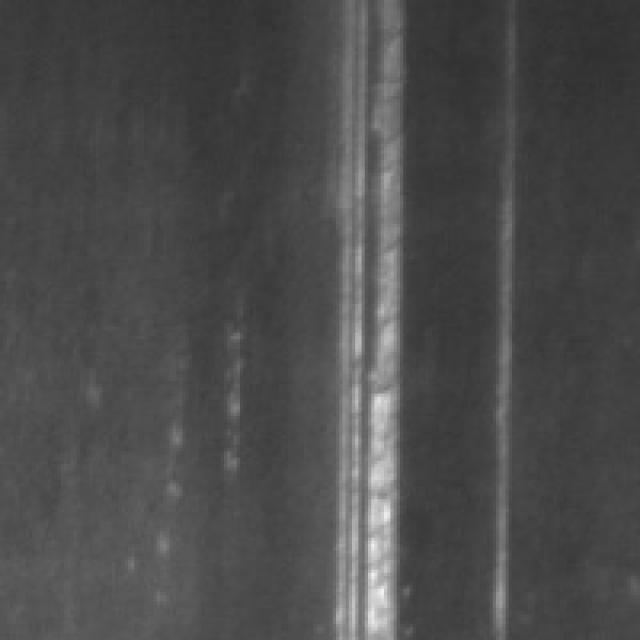scratches: (320, 0, 410, 634), (480, 86, 518, 634)
